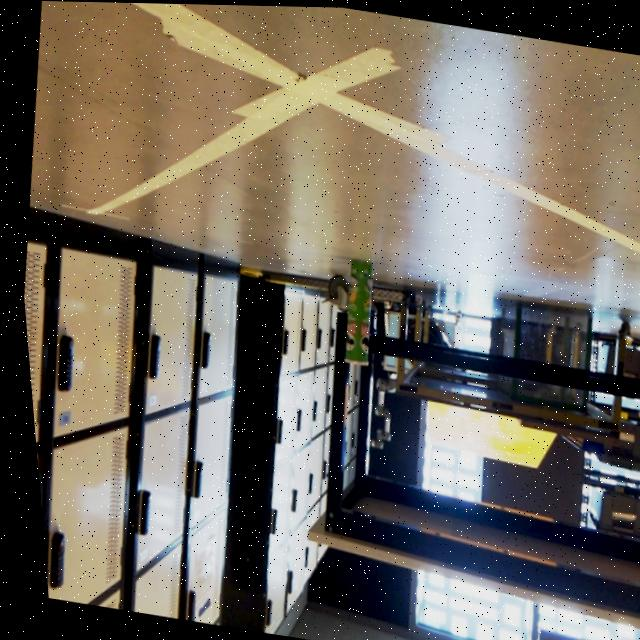greenpringles: (322, 249, 394, 377)
redpringles: (613, 282, 640, 428)
